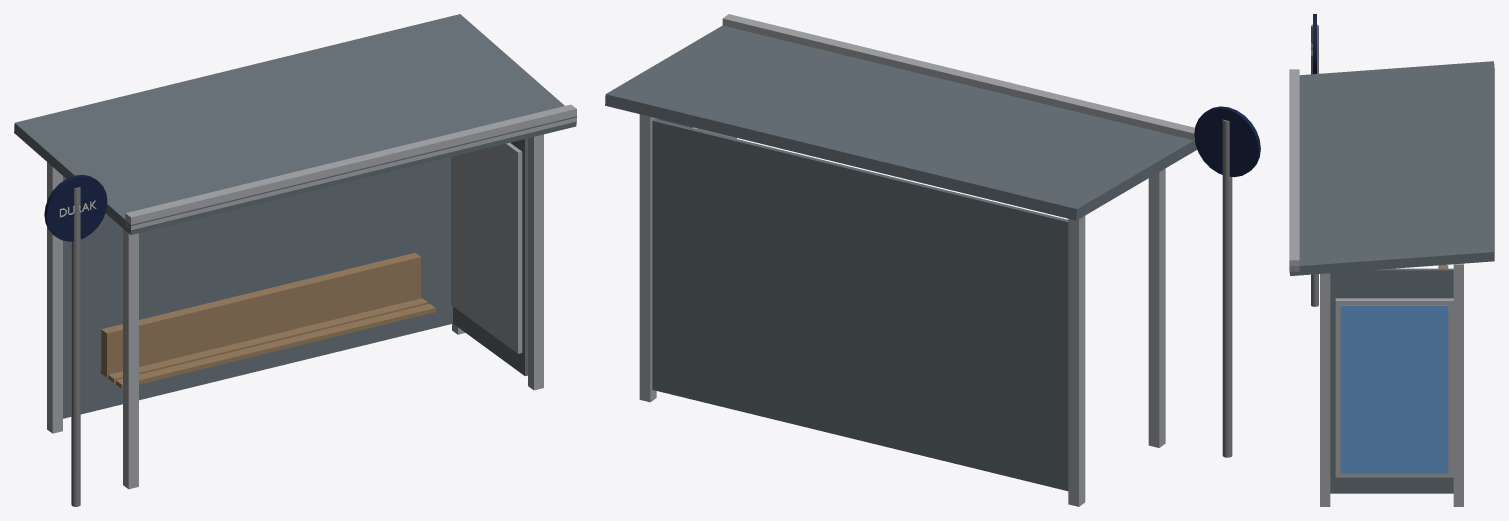
Rendered from otobus_duragi.glb.
3 renders of one model, left to right at view 1: azimuth 30°, elevation 25°; view 2: azimuth 150°, elevation 25°; view 3: azimuth 270°, elevation 25°, orthographic. The views are drawn at different scales.
Parts seen in each view (by area): view 1: Otobus_Duragi; view 2: Otobus_Duragi; view 3: Otobus_Duragi.
Part boxes in pixels (left/top/right/bottom): Otobus_Duragi: left=14, top=14, right=576, bottom=506; Otobus_Duragi: left=605, top=14, right=1260, bottom=506; Otobus_Duragi: left=1289, top=14, right=1494, bottom=506.
Bounding box in the file's own units: 5.1 × 3.1 × 2.
